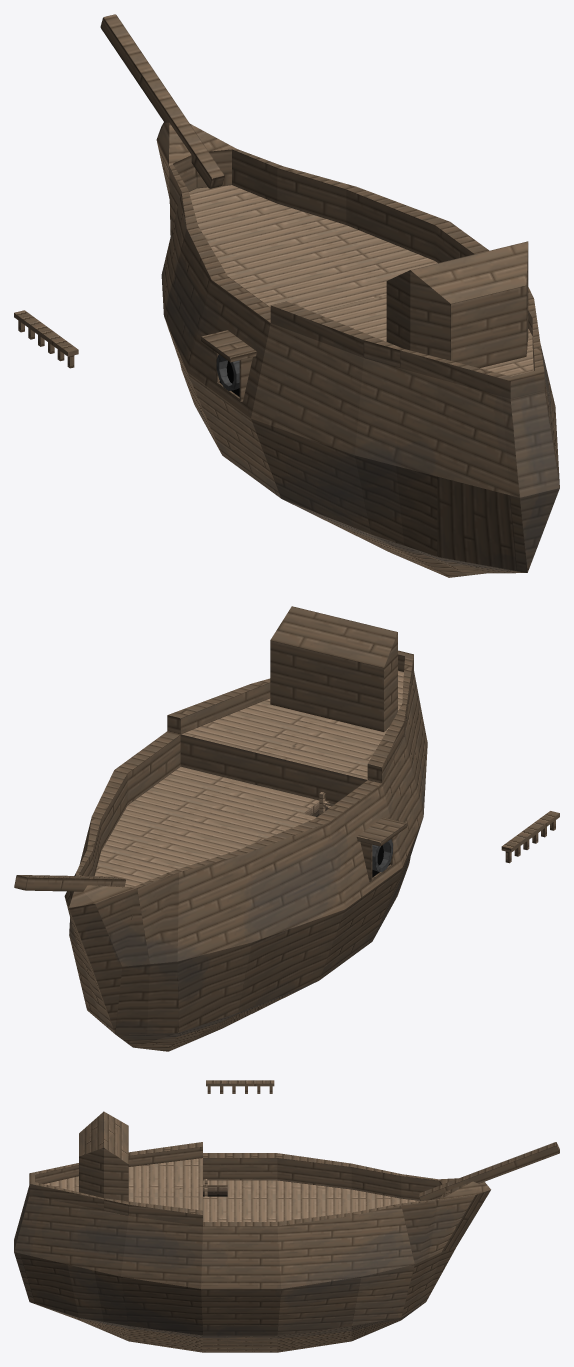
The model's file is Ship.fbx.
3 renders of one model, top to bottom at view 1: azimuth 30°, elevation 25°; view 2: azimuth 150°, elevation 25°; view 3: azimuth 270°, elevation 25°, orthographic. The views are drawn at different scales.
Parts seen in each view (by area): view 1: cuboid, cube_1, cube_4, cube_2, cube; view 2: cuboid, cube_1, cube_4, cube_2, cube; view 3: cuboid, cube_1, cube_2.
Boxes of the visible parts, x1,y1,x2,y2 form: cuboid: [156, 122, 559, 577]; cube_1: [100, 14, 224, 188]; cube_4: [201, 330, 256, 362]; cube_2: [14, 310, 78, 356]; cube: [216, 352, 252, 401]; cuboid: [64, 606, 427, 1051]; cube_1: [14, 875, 125, 891]; cube_4: [356, 817, 407, 846]; cube_2: [501, 811, 559, 852]; cube: [360, 837, 393, 881]; cuboid: [14, 1111, 490, 1352]; cube_1: [419, 1142, 559, 1200]; cube_2: [206, 1080, 274, 1086].
Size of the model in its own units: 1350 by 994 by 2202.
5 materials, 5 textured.
